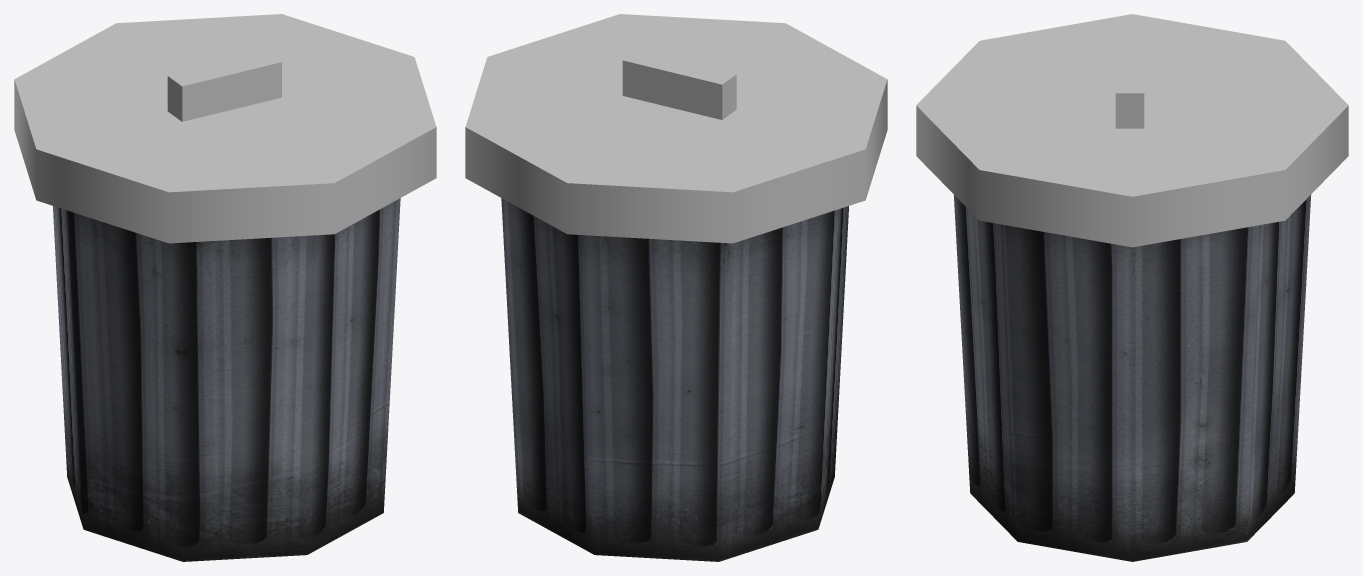
File: TrashBin.FBX
3 views of the same model, side by side, from view 1: azimuth 30°, elevation 25°; view 2: azimuth 150°, elevation 25°; view 3: azimuth 270°, elevation 25° (orthographic).
Visible parts, largest first — view 1: botBody; view 2: botBody; view 3: botBody.
Boxes of the visible parts, box(x1,y1,x2,y2) form: botBody: box(14, 14, 436, 561); botBody: box(465, 14, 887, 561); botBody: box(916, 14, 1348, 561).
Size of the model in its own units: 0.3779 by 0.4079 by 0.3779.
